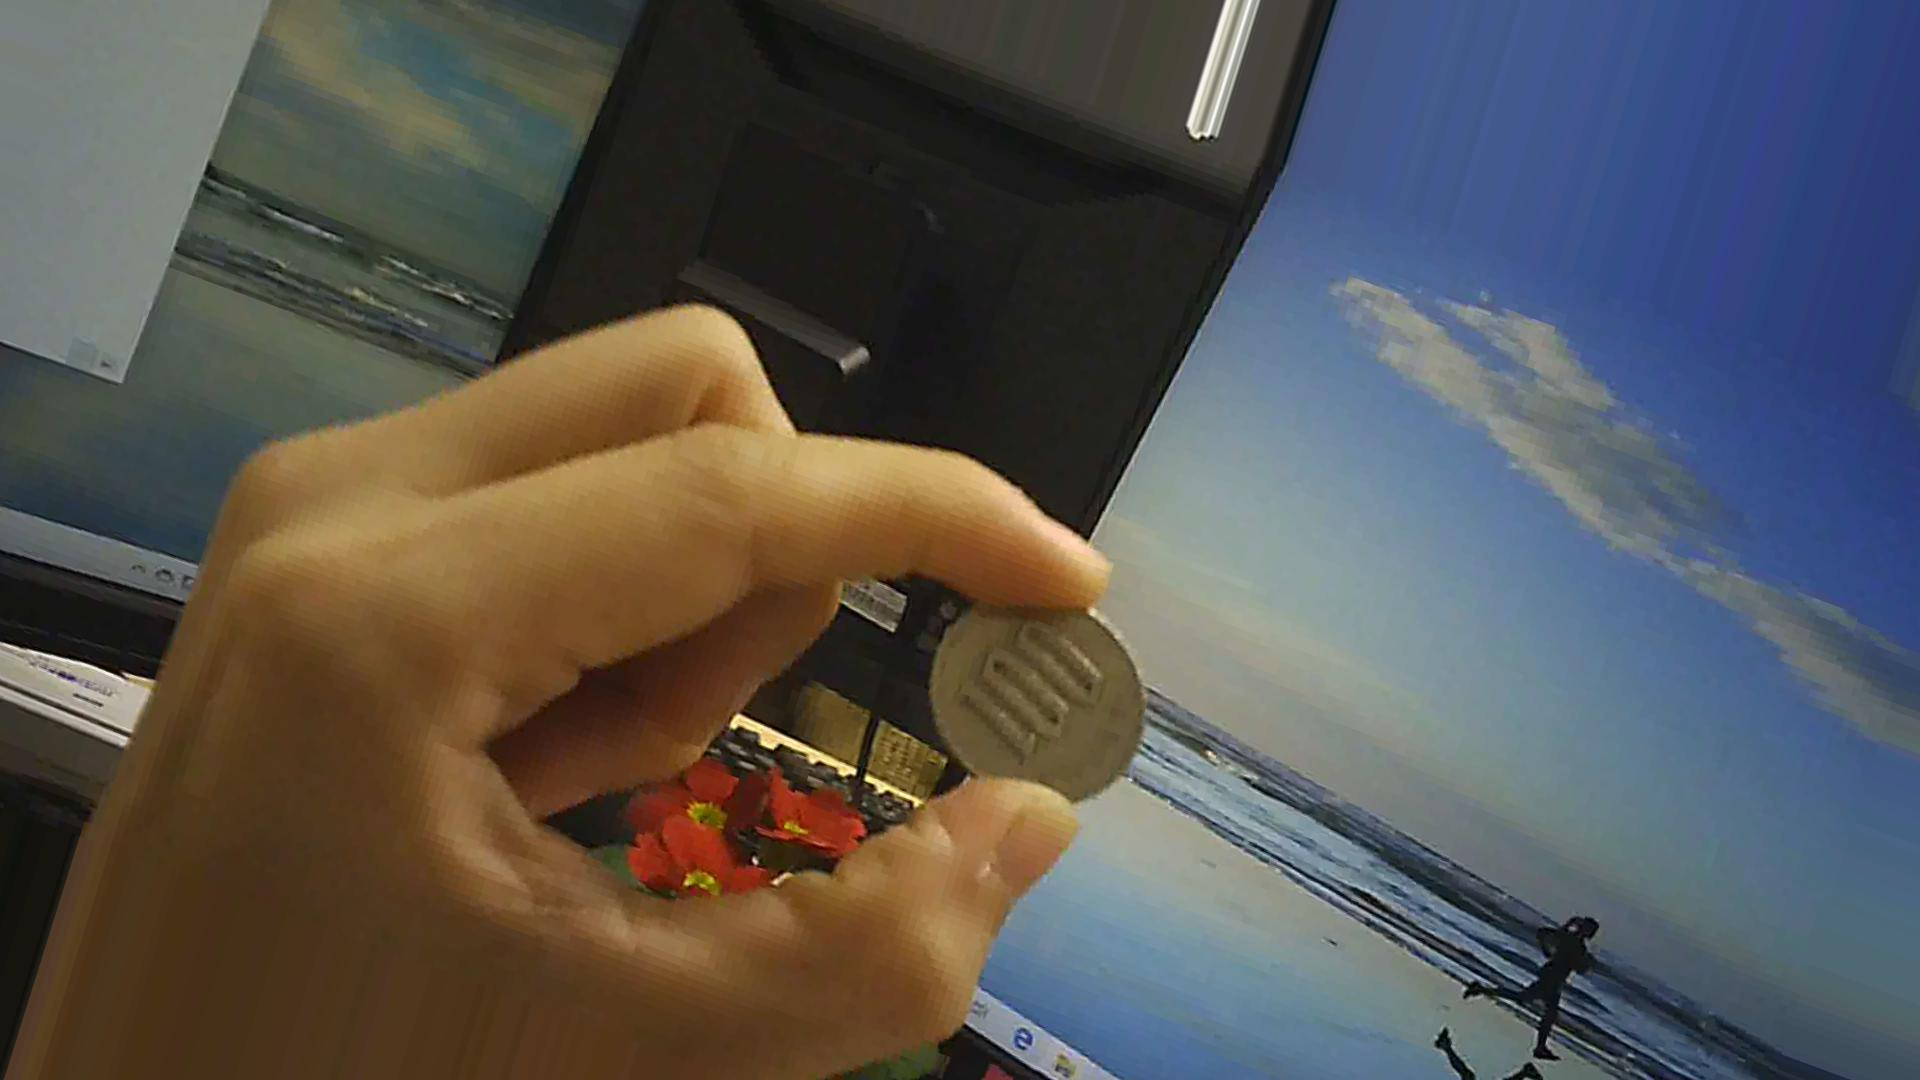100 Yen: (920, 592, 1170, 824)
